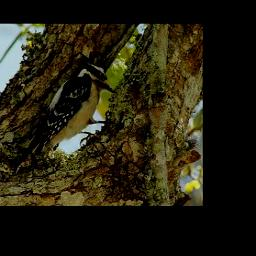Woodpecker: (13, 58, 117, 171)
